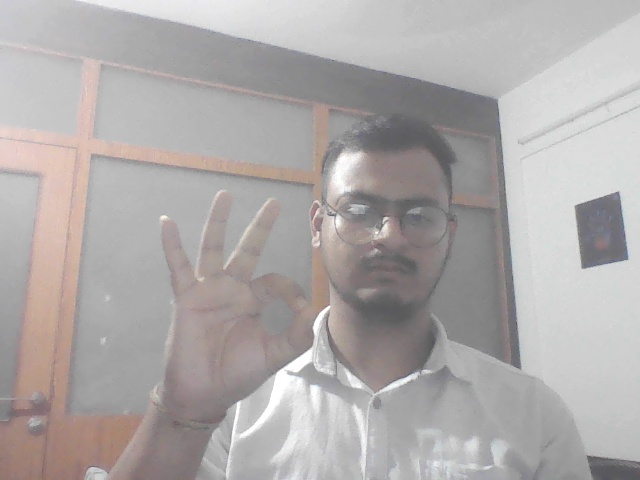OK: (140, 183, 327, 409)
